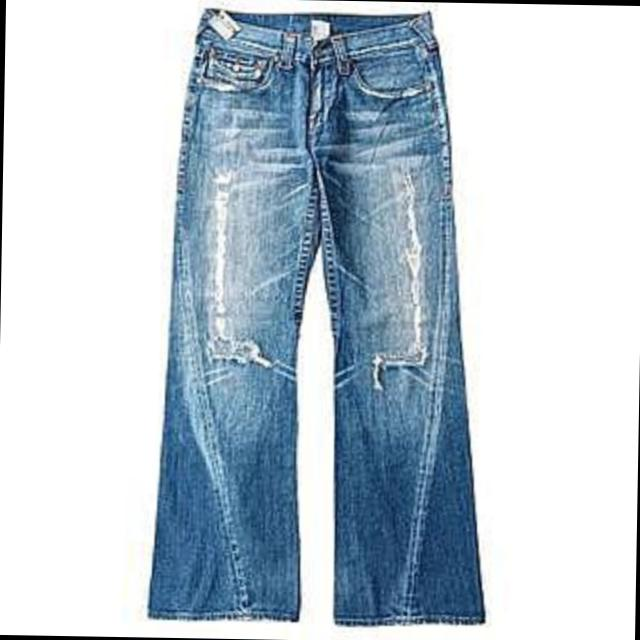TROUSER: (133, 0, 506, 633)
